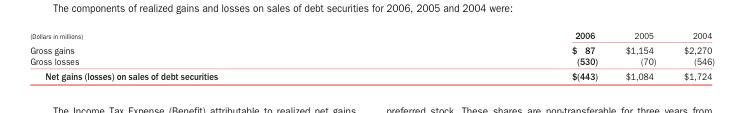table: (29, 29, 713, 81)
table column: (29, 29, 394, 81), (394, 29, 610, 81), (610, 29, 669, 81), (669, 29, 713, 81)
table column header: (29, 29, 713, 42)
table row: (29, 29, 713, 42), (29, 42, 713, 55), (29, 55, 713, 68), (29, 68, 713, 81)
